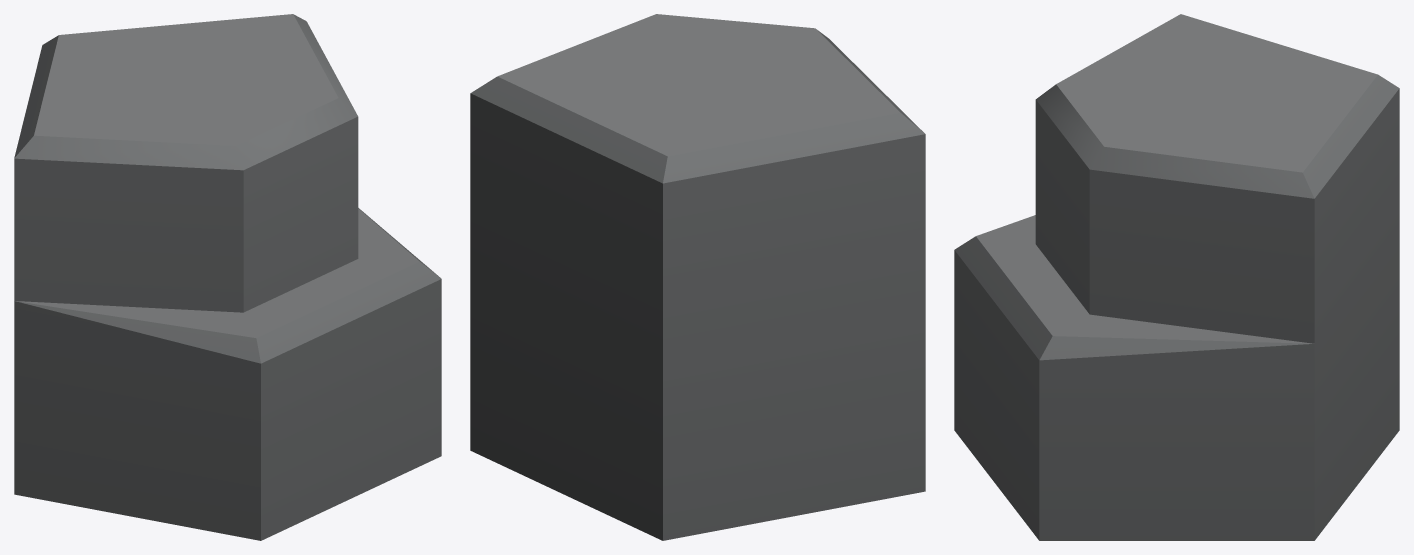
The model's file is Rock_1_A.glb.
The picture shows the model from 3 angles, left to right: view 1: azimuth 30°, elevation 25°; view 2: azimuth 150°, elevation 25°; view 3: azimuth 270°, elevation 25°; orthographic projection. The views are drawn at different scales.
Parts seen in each view (by area): view 1: Rock_1_A_Color1; view 2: Rock_1_A_Color1; view 3: Rock_1_A_Color1.
Boxes of the visible parts, x1=… form: Rock_1_A_Color1: x1=14, y1=14, x2=441, y2=540; Rock_1_A_Color1: x1=470, y1=14, x2=925, y2=540; Rock_1_A_Color1: x1=954, y1=14, x2=1399, y2=540.
Size of the model in its own units: 0.578 by 0.5403 by 0.6078.
1 material, 1 textured.
